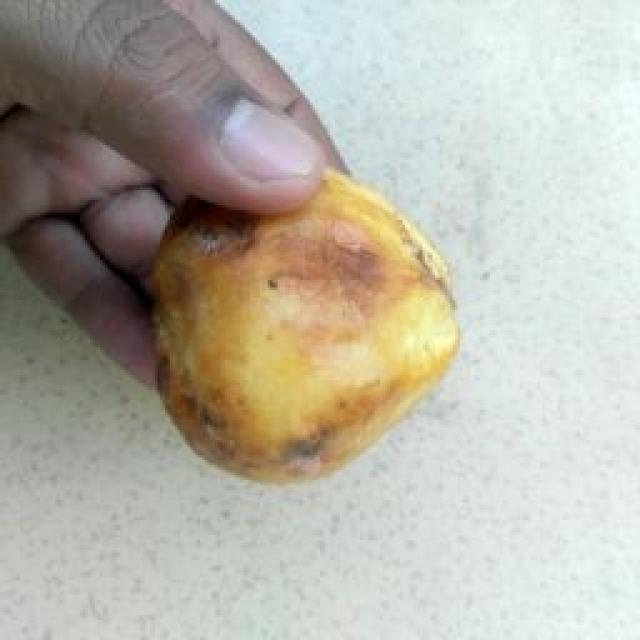Organik: (148, 171, 464, 491)
